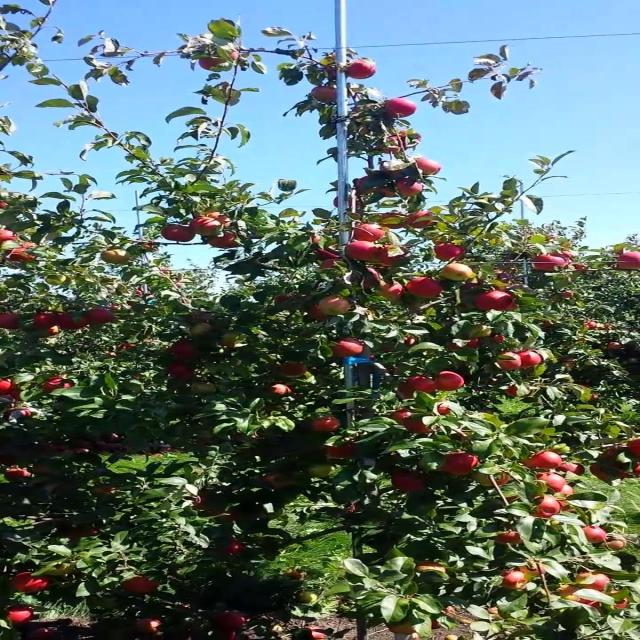apple: (440, 452, 482, 476), (561, 584, 603, 608), (397, 376, 437, 399), (13, 572, 52, 595), (198, 52, 244, 71), (476, 292, 519, 312), (575, 572, 612, 592), (390, 472, 427, 492), (376, 248, 412, 268), (383, 100, 420, 119), (127, 576, 162, 596), (433, 372, 468, 392), (163, 224, 197, 244), (56, 312, 91, 331), (319, 296, 354, 315), (440, 264, 476, 282), (412, 280, 446, 299), (348, 240, 377, 261), (433, 244, 468, 261), (532, 256, 569, 272), (348, 60, 377, 80), (170, 340, 199, 360), (476, 472, 512, 488), (532, 500, 560, 520), (355, 224, 386, 242), (333, 340, 364, 358), (540, 472, 569, 491), (504, 572, 533, 591), (433, 608, 457, 630), (404, 212, 436, 228), (589, 464, 617, 482), (326, 444, 357, 460), (191, 220, 220, 237), (397, 180, 427, 196), (532, 452, 562, 468), (6, 608, 36, 624), (518, 560, 548, 576), (312, 88, 341, 104), (376, 284, 405, 300), (362, 268, 384, 289), (13, 244, 37, 263), (383, 136, 407, 155), (404, 420, 434, 435), (212, 232, 240, 248), (447, 340, 484, 352), (63, 528, 100, 540), (106, 248, 132, 265), (497, 352, 519, 372), (319, 248, 341, 268), (582, 528, 610, 543), (518, 352, 546, 367), (397, 128, 425, 143), (604, 536, 629, 552), (419, 160, 444, 176), (618, 252, 639, 271), (611, 592, 633, 610), (205, 212, 233, 226), (262, 476, 292, 489), (170, 364, 194, 380), (312, 420, 341, 433), (42, 380, 73, 392), (390, 624, 420, 636), (419, 160, 443, 175), (312, 464, 336, 479), (92, 308, 114, 324), (319, 252, 341, 268), (220, 332, 242, 348), (191, 496, 213, 512), (319, 252, 341, 268), (497, 532, 524, 545), (355, 176, 373, 195), (390, 408, 412, 423), (92, 484, 119, 496), (227, 540, 247, 556), (284, 364, 308, 377), (383, 216, 405, 230), (191, 384, 219, 395), (355, 176, 372, 194), (269, 384, 293, 396), (6, 468, 30, 480), (6, 312, 21, 331), (589, 464, 608, 479), (6, 408, 34, 418), (333, 196, 356, 208), (461, 280, 484, 292), (35, 316, 57, 328), (191, 324, 213, 336), (561, 464, 583, 476), (604, 448, 624, 461), (625, 440, 639, 458), (191, 312, 213, 323), (419, 564, 448, 572), (404, 132, 425, 143), (376, 188, 398, 198), (220, 512, 242, 522), (6, 228, 21, 242), (561, 484, 576, 498), (6, 380, 21, 394), (312, 308, 329, 320), (618, 468, 635, 480), (42, 328, 62, 338), (35, 464, 53, 475), (404, 336, 420, 348), (518, 460, 539, 469), (490, 332, 505, 344), (383, 168, 405, 176), (333, 196, 347, 208), (440, 404, 453, 416), (561, 500, 574, 512), (276, 296, 295, 304), (504, 496, 519, 505), (49, 328, 62, 336), (6, 456, 16, 465), (511, 388, 519, 396), (312, 236, 320, 244)
